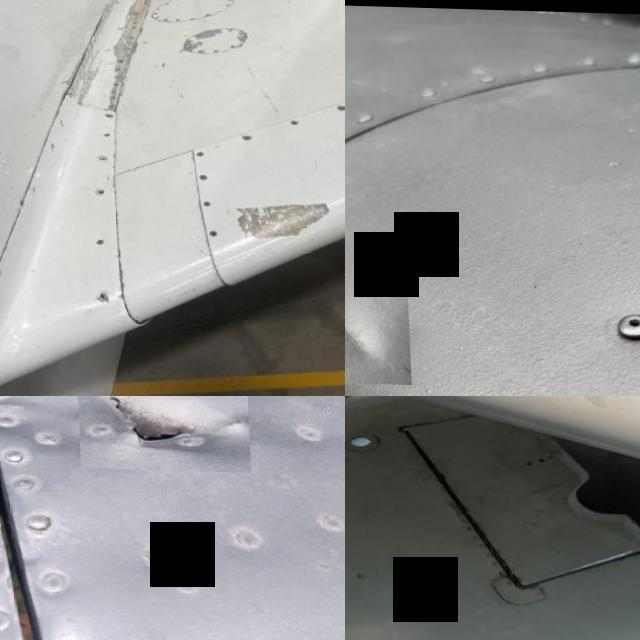Crack: (73, 396, 247, 470), (78, 10, 105, 50)
Dent: (345, 275, 408, 383)
Missing_Fastener: (93, 154, 105, 162), (92, 186, 102, 194), (198, 198, 208, 206), (94, 290, 102, 298), (204, 228, 213, 235), (286, 117, 296, 123), (45, 143, 51, 151), (98, 131, 107, 136), (26, 186, 32, 193), (101, 112, 111, 116)
